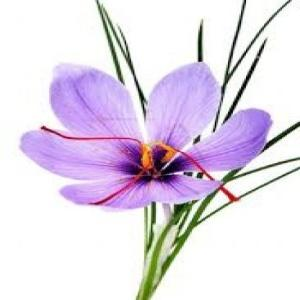Saffron: (19, 64, 270, 209)
